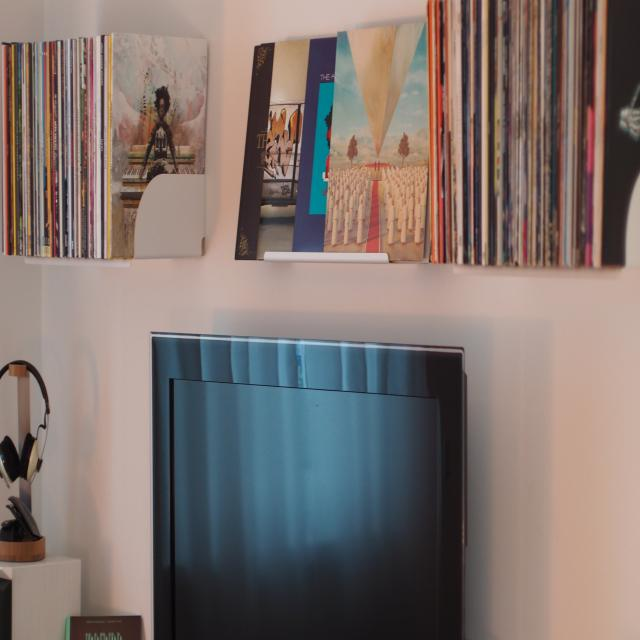television: (101, 281, 517, 640)
